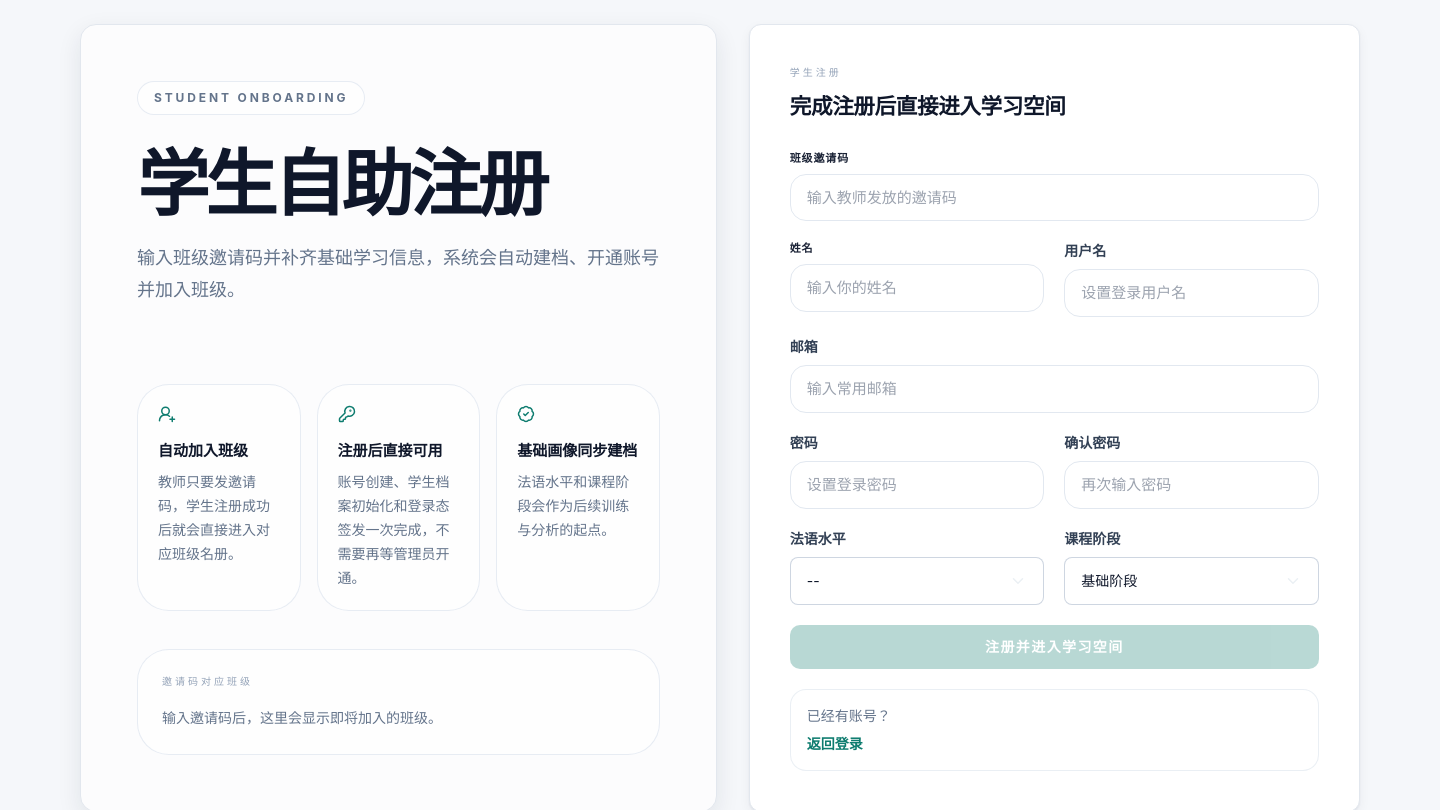
Test: Register invite code verification › verifies a pasted class invite code and enables submit
Type "CLS-NJ3R68" into the field with id "register-class-code".
click(1054, 198); type("CLS-NJ3R68")  # box [790, 174, 1319, 222]
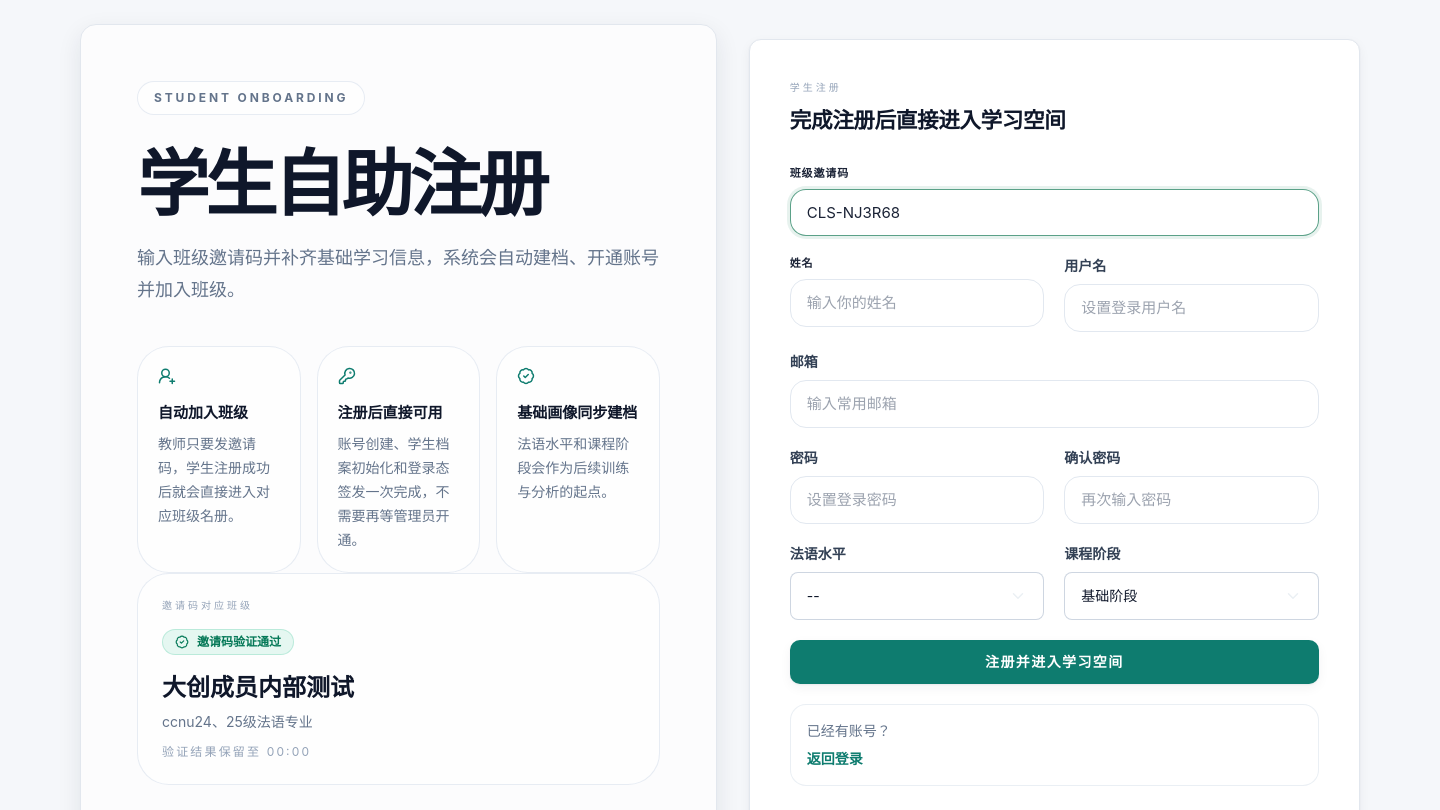
Now the text "大创成员内部测试" is shown, box [162, 672, 354, 702]
Now the text "邀请码验证通过" is shown, box [162, 629, 294, 655]
Now the button "注册并进入学习空间" is enabled, box [790, 640, 1319, 684]
